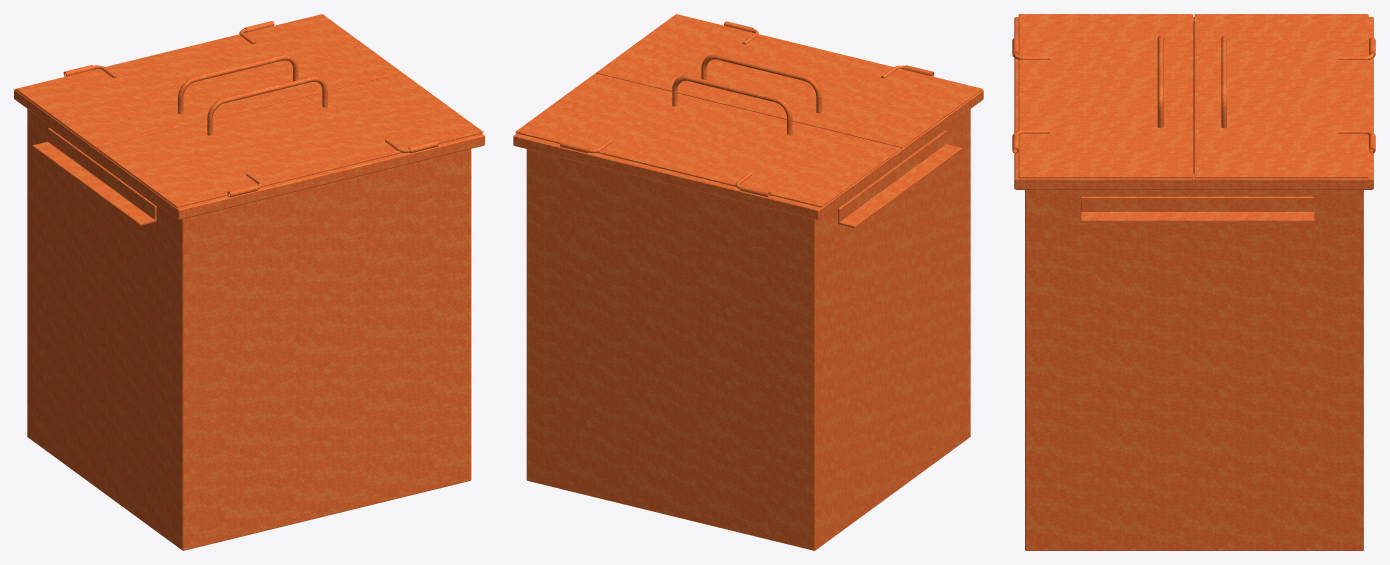
Rendered from Container 2.obj.
The picture shows the model from 3 angles, left to right: view 1: azimuth 30°, elevation 25°; view 2: azimuth 150°, elevation 25°; view 3: azimuth 270°, elevation 25°; orthographic projection. The views are drawn at different scales.
Parts seen in each view (by area): view 1: Box711, Box712, Line608, Rectangle50; view 2: Box711, Box712, Line608, Rectangle50; view 3: Box711, Box712, Line608, Rectangle50.
Boxes of the visible parts, left/top/right/bottom form: Box711: left=14, top=89, right=484, bottom=550; Box712: left=16, top=14, right=483, bottom=207; Line608: left=32, top=128, right=156, bottom=225; Rectangle50: left=178, top=55, right=327, bottom=135; Box711: left=513, top=89, right=983, bottom=550; Box712: left=515, top=14, right=982, bottom=207; Line608: left=838, top=130, right=961, bottom=228; Rectangle50: left=672, top=54, right=821, bottom=134; Box711: left=1014, top=17, right=1373, bottom=550; Box712: left=1018, top=14, right=1368, bottom=178; Line608: left=1081, top=196, right=1314, bottom=222; Rectangle50: left=1157, top=36, right=1226, bottom=128.
Bounding box in the file's own units: 3648 × 4117 × 3263.
